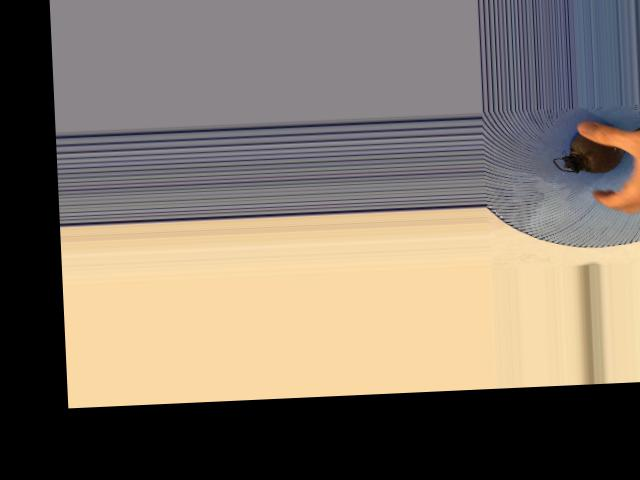beet: (550, 111, 640, 175)
